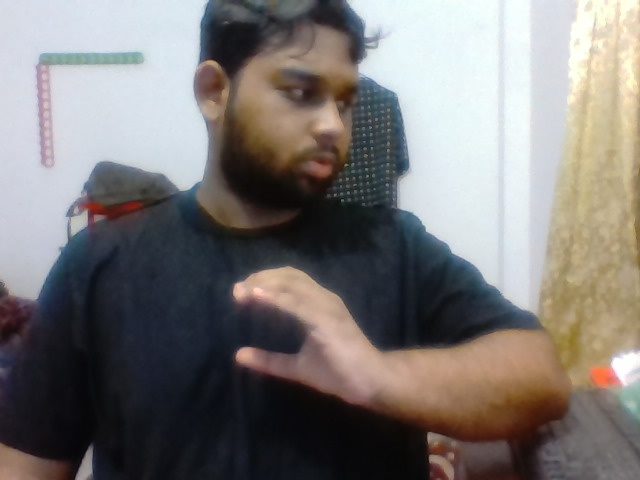C: (219, 253, 399, 415)
